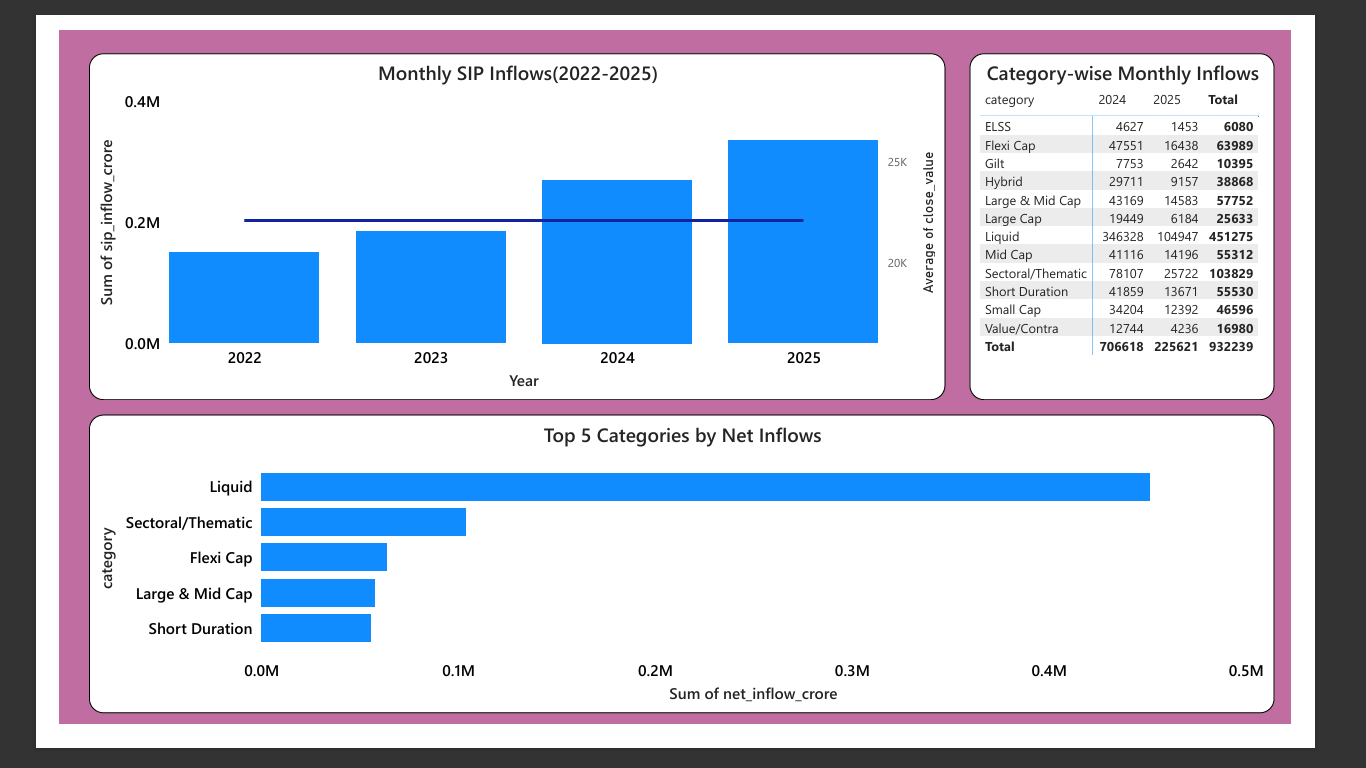

This screenshot's page, from the dashboard's own definition file:
{"tool":"powerbi","page":{"name":"SIP & Market Trends","canvas":[1280,720],"ordinal":3},"visuals":[{"type":"lineClusteredColumnComboChart","title":"Monthly SIP Inflows(2022-2025)","fields":{"Category":["04_monthly_sip_inflows.month.Variation.Date Hierarchy.Year","04_monthly_sip_inflows.month.Variation.Date Hierarchy.Quarter","04_monthly_sip_inflows.month.Variation.Date Hierarchy.Month","04_monthly_sip_inflows.month.Variation.Date Hierarchy.Day"],"Y":["Sum(04_monthly_sip_inflows.sip_inflow_crore)"],"Y2":["Avg(10_benchmark_indices.close_value)"]},"box":[31.4,24.3,890,360],"z":0},{"type":"pivotTable","title":"Category-wise Monthly Inflows","fields":{"Rows":["05_category_inflows.category"],"Columns":["05_category_inflows.month.Variation.Date Hierarchy.Year","05_category_inflows.month.Variation.Date Hierarchy.Quarter","05_category_inflows.month.Variation.Date Hierarchy.Month","05_category_inflows.month.Variation.Date Hierarchy.Day"],"Values":["Sum(05_category_inflows.net_inflow_crore)"]},"box":[945.7,24.3,317.1,360],"z":1000},{"type":"clusteredBarChart","title":"Top 5 Categories by Net Inflows","fields":{"Category":["05_category_inflows.category"],"Y":["Sum(05_category_inflows.net_inflow_crore)"]},"box":[31.4,398.6,1231.4,310],"z":2000}]}

Visuals, with their boxes in screenshot pixels (x1, y1, x2, y2), scaled from the page's 1280x720 canvas onto the 1366x768 screenshot:
"Monthly SIP Inflows(2022-2025)" lineClusteredColumnComboChart: 34/26/983/410
"Category-wise Monthly Inflows" pivotTable: 1009/26/1348/410
"Top 5 Categories by Net Inflows" clusteredBarChart: 34/425/1348/756
